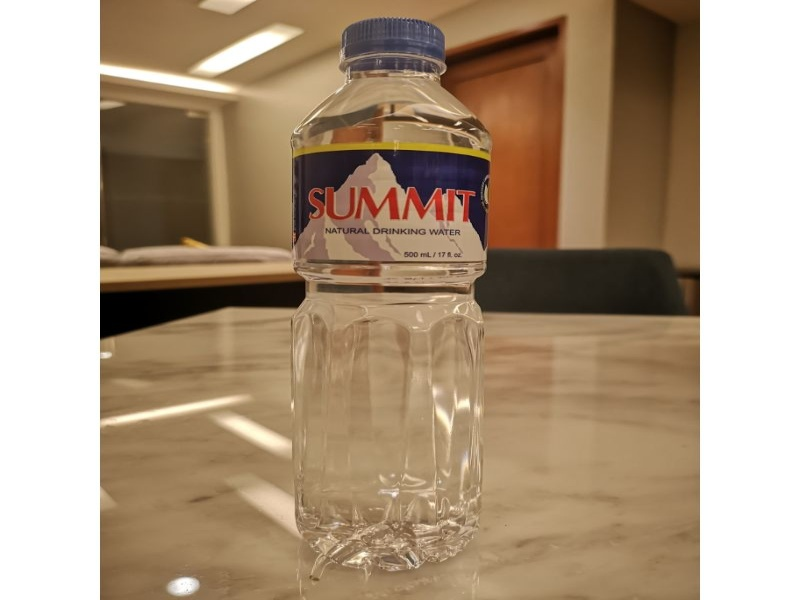PET #1: (287, 15, 495, 574)
